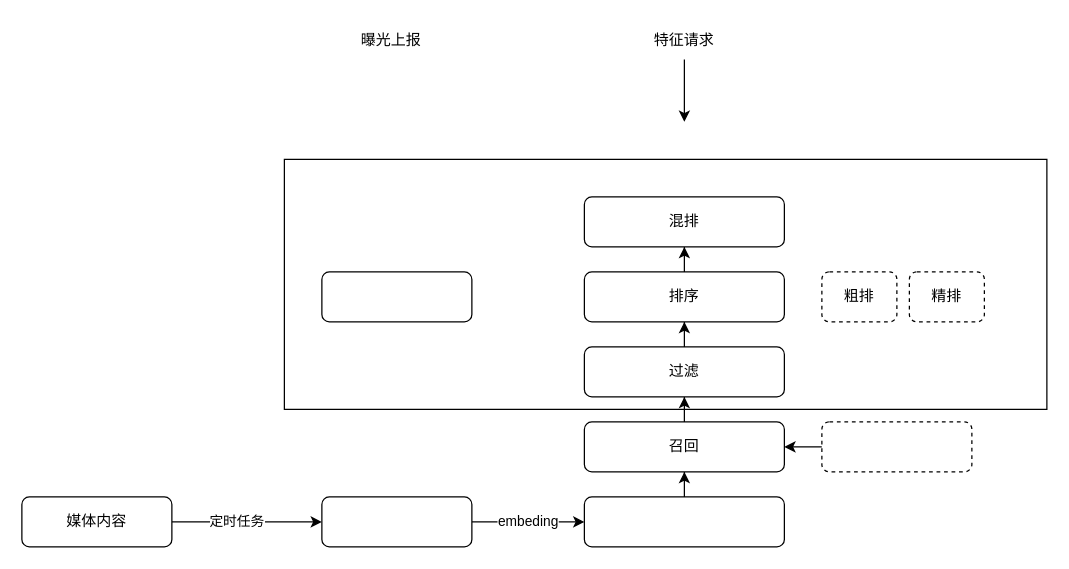
This 1069x569 diagram has some shape labels left out. The centre of each missing label's shape, as x and y in pixels:
es存储: the point at 683,521
推荐池: the point at 396,521
消重: the point at 396,296
用户特征: the point at 896,446
